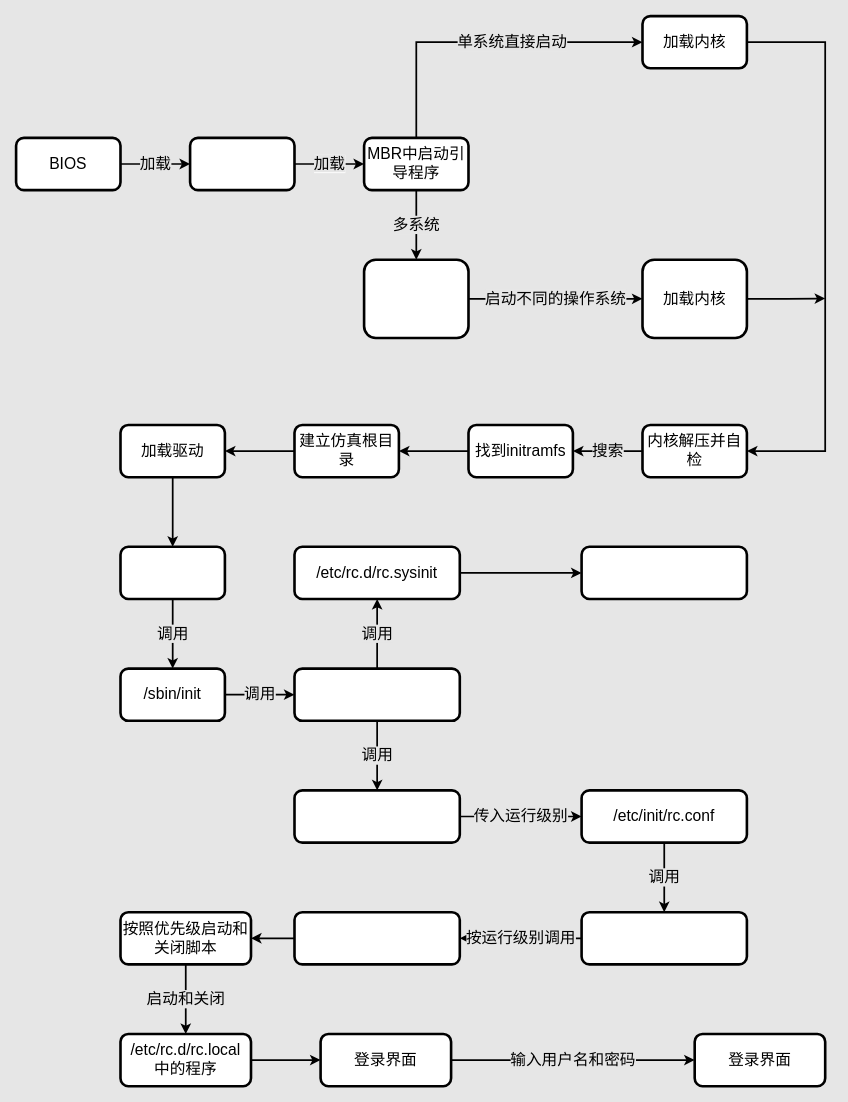
This 848x1102 diagram has some shape labels left out. Each missing label, with the box of its shape:
/etc/init/rcS.conf: (293, 667, 461, 722)
/etc/inittab: (293, 789, 461, 843)
/etc/rc.d/rc: (580, 910, 748, 965)
/etc/rc[0-6].d: (293, 910, 461, 965)
MBR: (188, 136, 295, 191)
挂载真正系统根目录: (119, 545, 226, 600)
系统初始化: (580, 545, 748, 600)
调用其他分区启动扇区中的启动引导程序: (362, 258, 469, 339)
